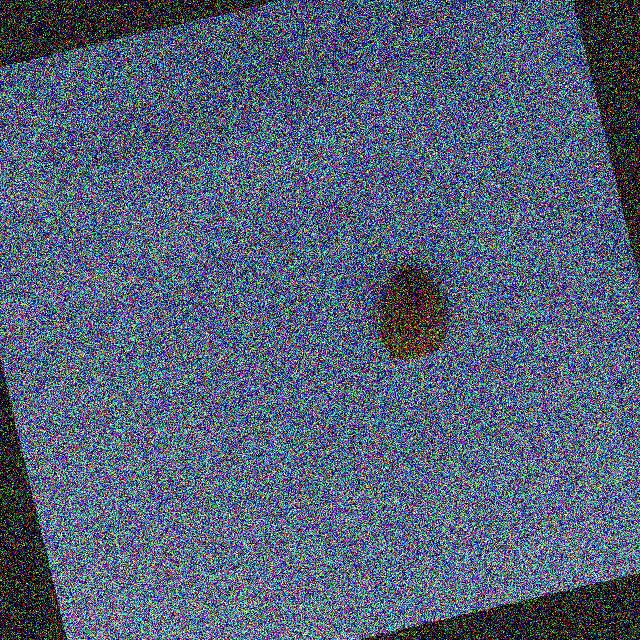grade2: (361, 258, 461, 370)
